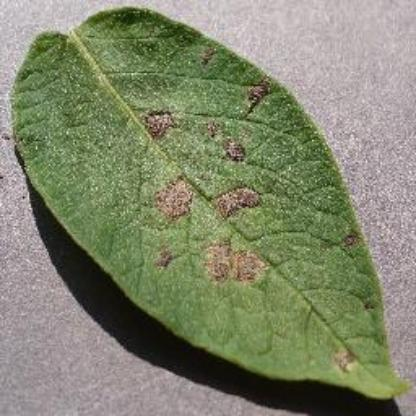Early-Blight: (15, 0, 416, 408)
